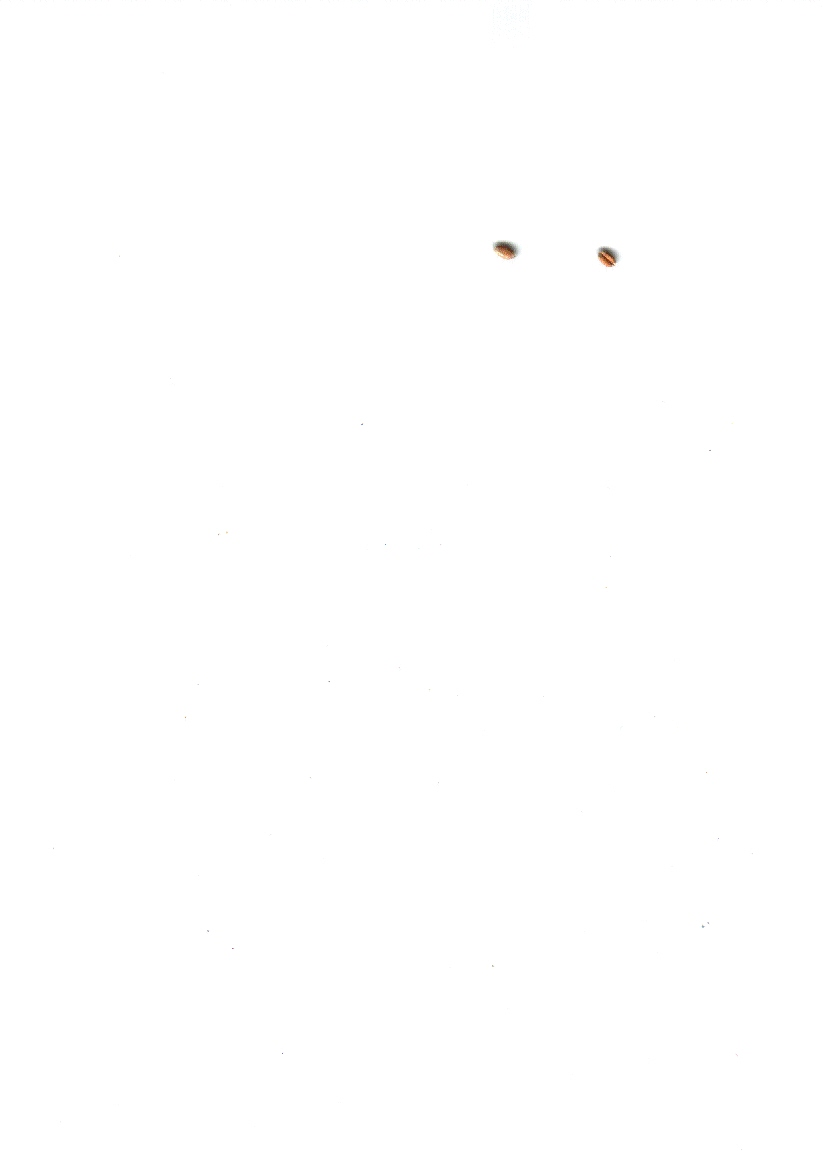grains: (589, 232, 627, 286), (484, 232, 523, 269)
